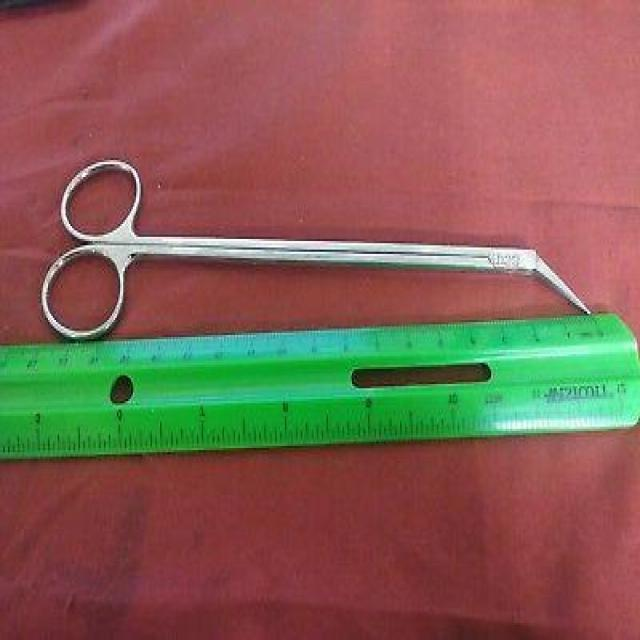Potts: (35, 152, 595, 346)
